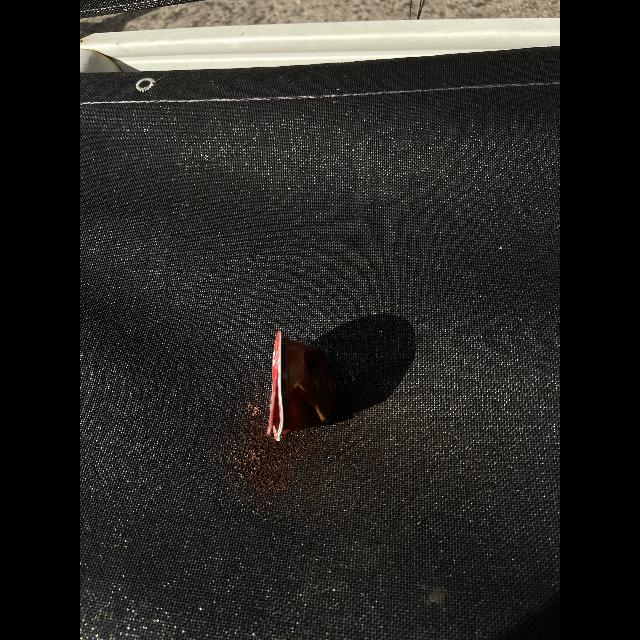damaged_capsule: (258, 330, 346, 444)
